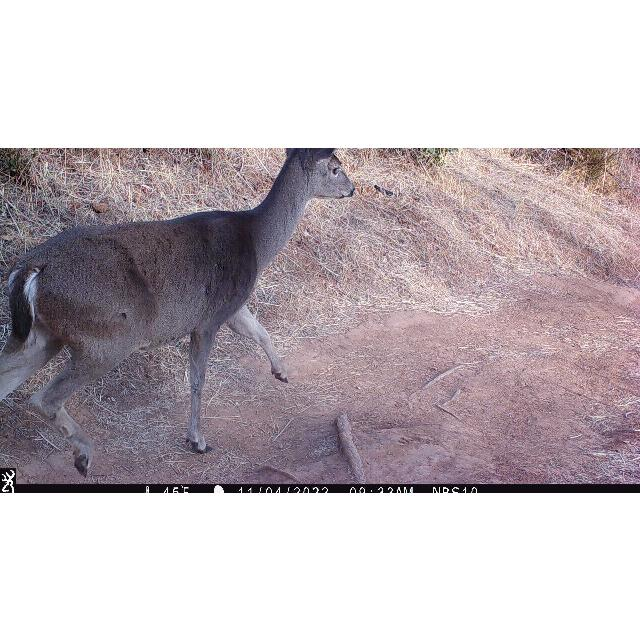animals: (0, 148, 358, 474)
